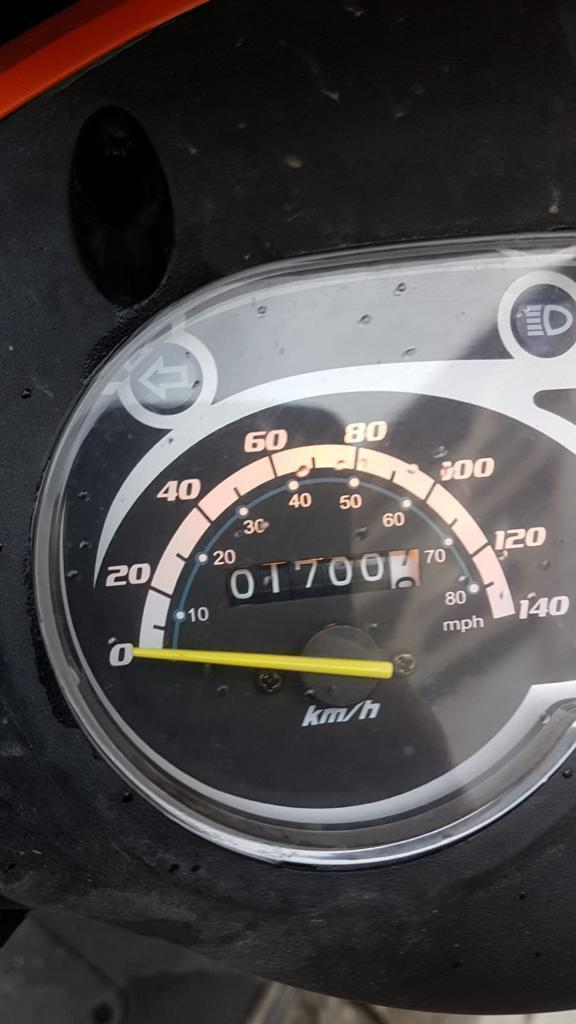0: (325, 555, 354, 588), (227, 569, 255, 603), (359, 550, 384, 583), (223, 550, 238, 565)
1: (267, 555, 287, 601)
7: (293, 557, 319, 592), (394, 547, 414, 572)
odometer: (221, 546, 426, 612)
